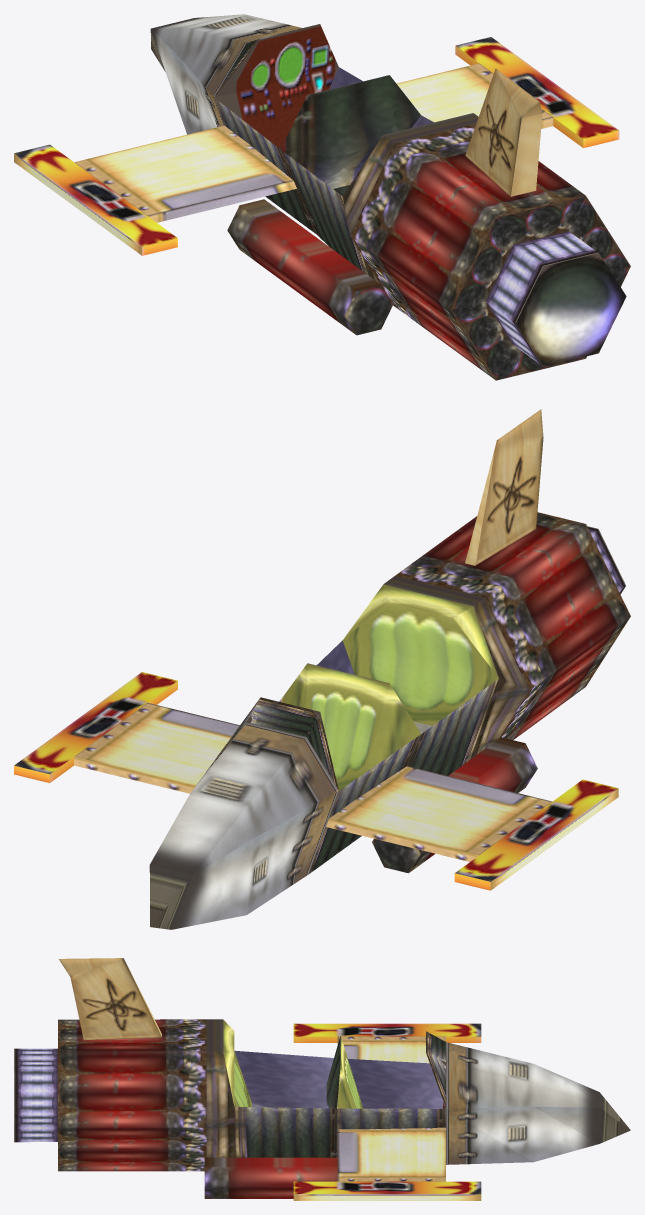
File: rocketship.glb
3 views of the same model, one above another, from view 1: azimuth 30°, elevation 25°; view 2: azimuth 150°, elevation 25°; view 3: azimuth 270°, elevation 25° (orthographic). The views are drawn at different scales.
Visible parts, largest first — view 1: rocketship; view 2: rocketship; view 3: rocketship.
Part boxes in pixels (box(x1,y1,x2,y2)): rocketship: box(14, 14, 630, 380); rocketship: box(14, 409, 630, 929); rocketship: box(14, 958, 630, 1200).
Bounding box in the file's own units: 330 × 189 × 503.
1 material, 1 textured.
